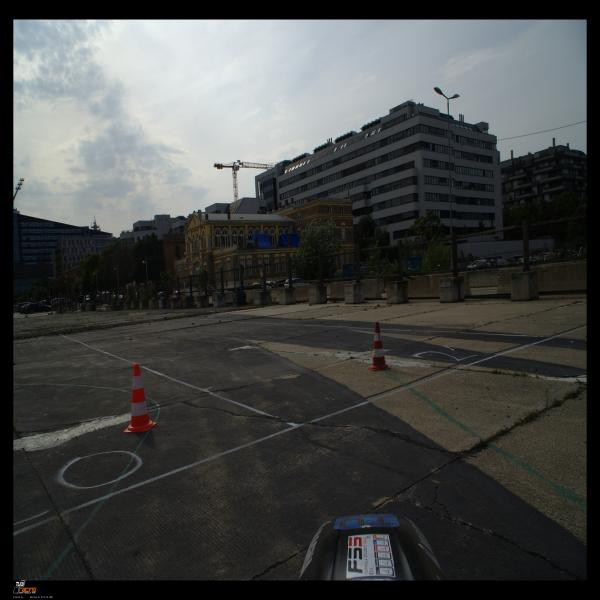large_orange_cone: (124, 363, 157, 433), (368, 322, 391, 371)
